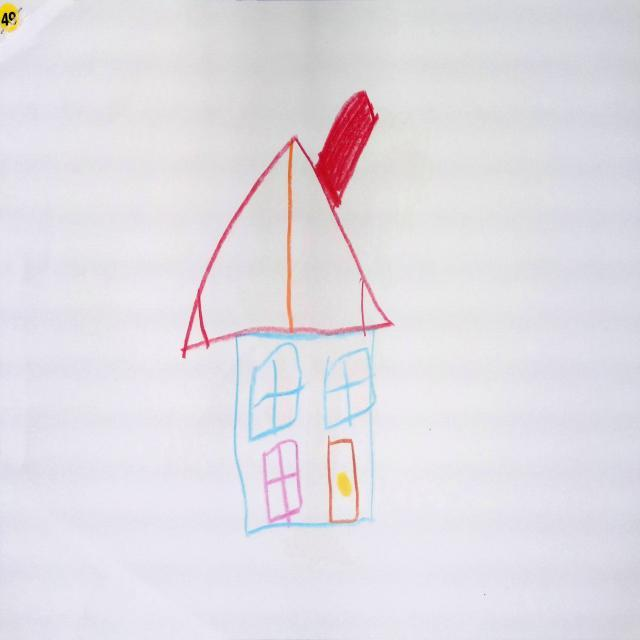chimney: (316, 90, 379, 206)
door: (330, 440, 360, 524)
house: (182, 92, 393, 534)
roof: (182, 138, 392, 356)
wall: (231, 328, 377, 531)
window: (249, 344, 304, 442), (324, 348, 376, 428), (263, 441, 303, 524)
